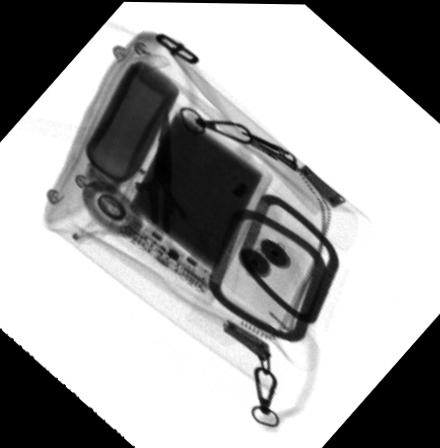Powerbank: (109, 97, 273, 300)
Scissors: (108, 108, 205, 273)
